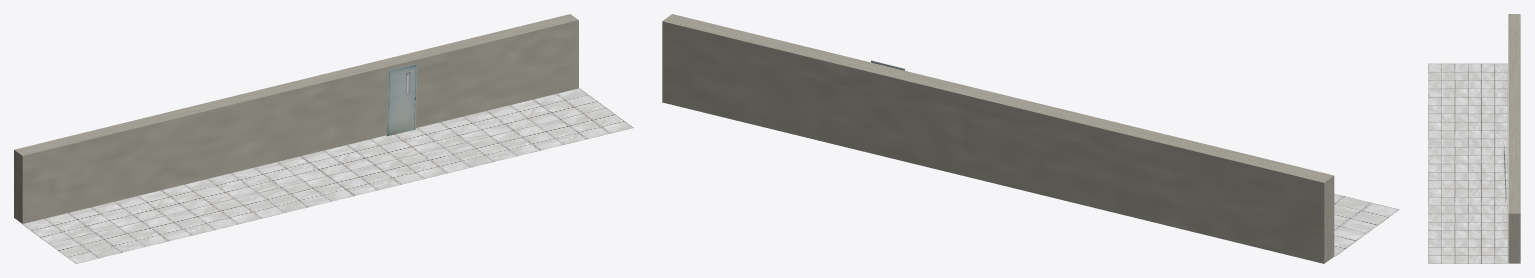
Rendered from hospital.fbx.
3 views of the same model, side by side, from view 1: azimuth 30°, elevation 25°; view 2: azimuth 150°, elevation 25°; view 3: azimuth 270°, elevation 25° (orthographic). The views are drawn at different scales.
Parts seen in each view (by area): view 1: pCube1, pPlane1, pPlane2; view 2: pCube1, pPlane1; view 3: pPlane1, pCube1, pPlane2.
Boxes of the visible parts, box(x1,y1,x2,y2) form: pCube1: box(14, 14, 578, 223); pPlane1: box(22, 88, 633, 263); pPlane2: box(386, 63, 417, 136); pCube1: box(662, 14, 1334, 263); pPlane1: box(1334, 193, 1399, 256); pPlane1: box(1428, 63, 1507, 263); pCube1: box(1508, 14, 1520, 263); pPlane2: box(1504, 146, 1506, 201).
Bounding box in the file's own units: 38.17 × 4.53 × 7.43.
3 materials, 3 textured.
